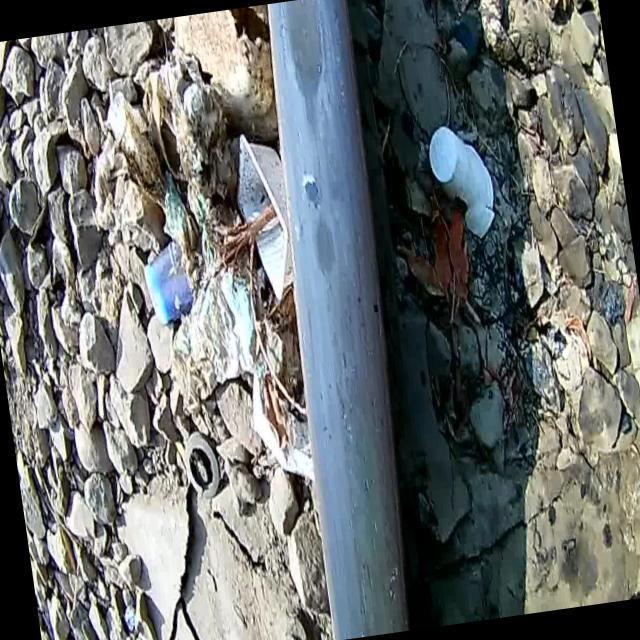Squats: (229, 0, 452, 640)
